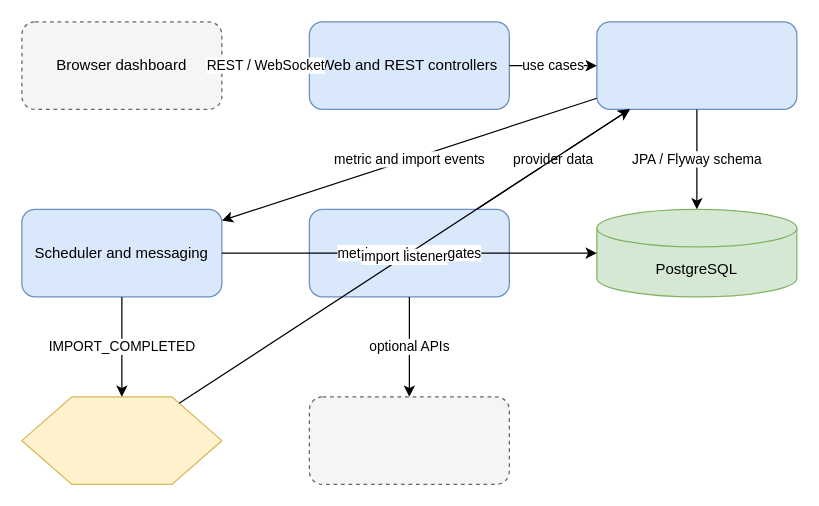
Image size: 819x506. Some labels were removed from this diagram. The shapes that lost their labels are listed below. From the top down, each one's box as (x1, y1, x2, y2) in pixels, then its label:
(596, 21, 797, 109): Application services
(21, 396, 222, 484): ActiveMQ Artemis
(308, 396, 509, 484): Facebook / Twitter
